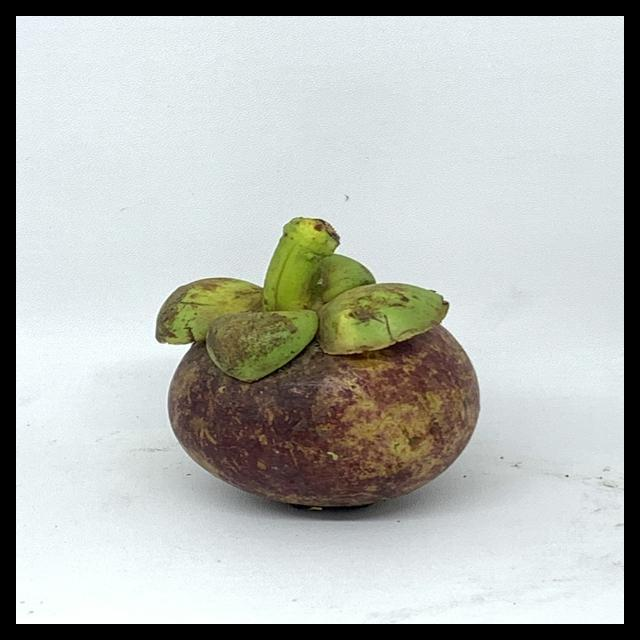mangosteen: (150, 209, 496, 522)
